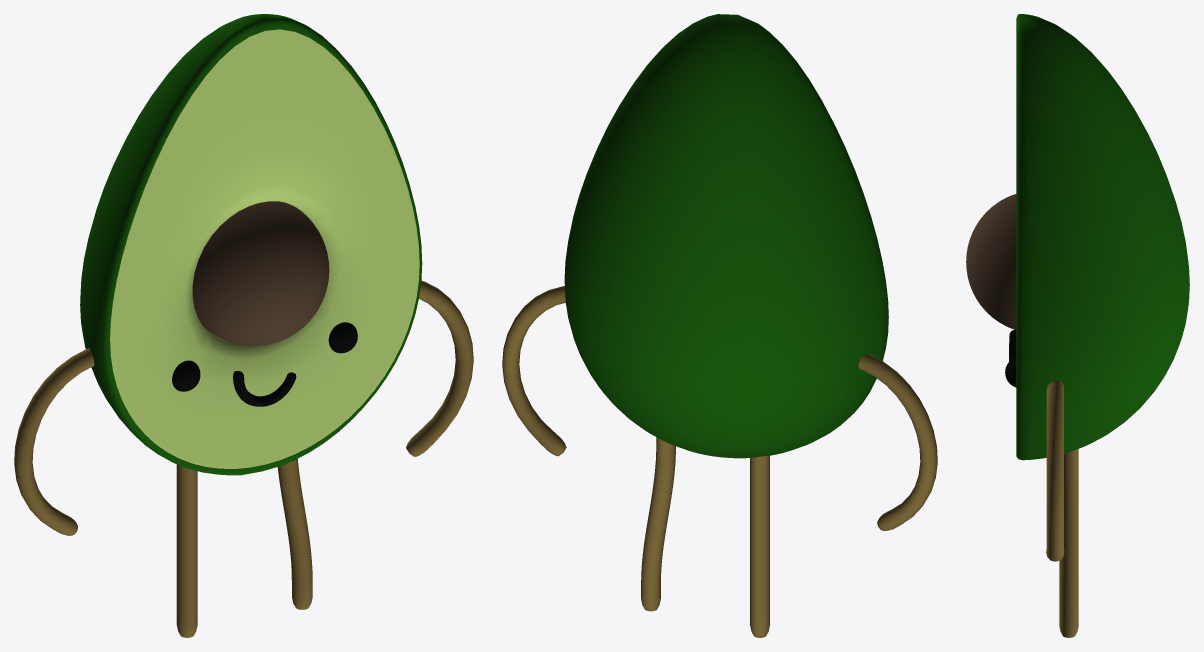
The model's file is char.gltf.
The picture shows the model from 3 angles, left to right: view 1: azimuth 30°, elevation 25°; view 2: azimuth 150°, elevation 25°; view 3: azimuth 270°, elevation 25°; orthographic projection. The views are drawn at different scales.
Parts seen in each view (by area): view 1: Node1, Node4, Node3, Node2, Node5, Node6; view 2: Node1, Node3; view 3: Node1, Node3, Node4.
Boxes of the visible parts, left/top/right/bottom form: Node1: left=80, top=14, right=422, bottom=475; Node4: left=192, top=201, right=329, bottom=345; Node3: left=14, top=280, right=473, bottom=637; Node2: left=233, top=371, right=296, bottom=406; Node5: left=328, top=322, right=357, bottom=353; Node6: left=172, top=360, right=200, bottom=391; Node1: left=564, top=14, right=888, bottom=458; Node3: left=502, top=286, right=937, bottom=637; Node1: left=1016, top=14, right=1189, bottom=460; Node3: left=1046, top=380, right=1078, bottom=637; Node4: left=966, top=194, right=1016, bottom=329.
Size of what is drawn, in the model's own units: 2.82 by 3.68 by 1.27.
